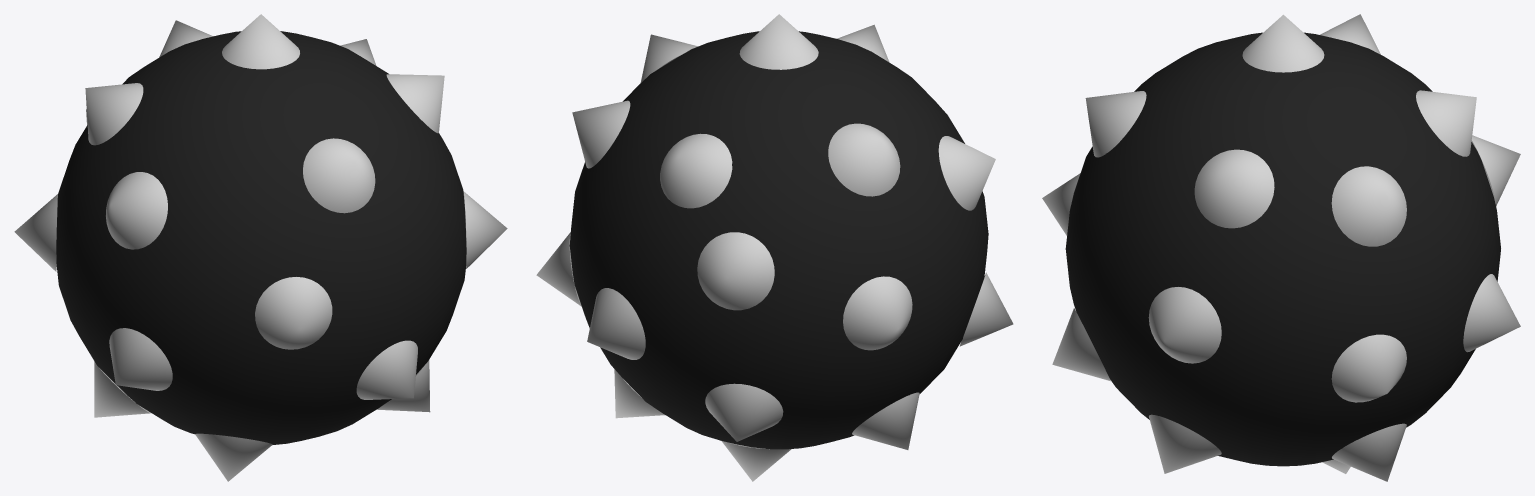
Rendered from bolaPinchos.fbx.
The picture shows the model from 3 angles, left to right: view 1: azimuth 30°, elevation 25°; view 2: azimuth 150°, elevation 25°; view 3: azimuth 270°, elevation 25°; orthographic projection. The views are drawn at different scales.
Visible parts, largest first — view 1: bolaPinchos; view 2: bolaPinchos; view 3: bolaPinchos.
Boxes of the visible parts, x1=… form: bolaPinchos: x1=14, y1=14, x2=507, y2=481; bolaPinchos: x1=536, y1=14, x2=1013, y2=481; bolaPinchos: x1=1042, y1=14, x2=1520, y2=481.
Size of the model in its own units: 211 by 234 by 220.
Materials: 1 (1 with a texture image).
